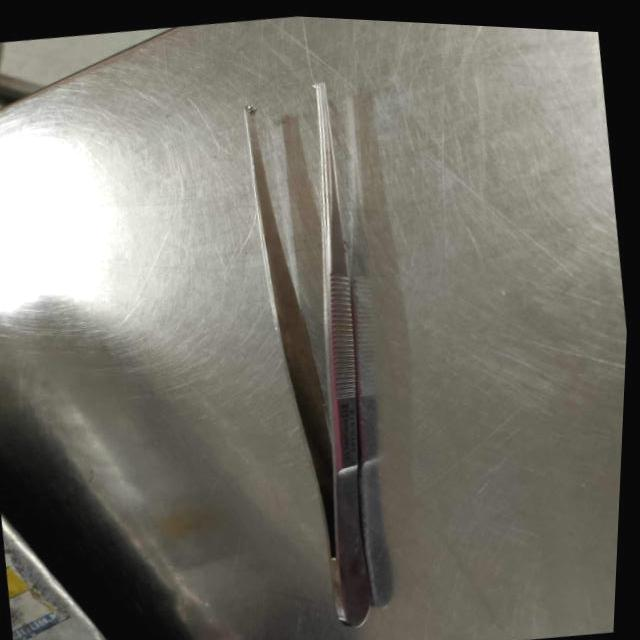General: (0, 12, 631, 639), (239, 76, 379, 629)
Sharps: (307, 76, 374, 627)
